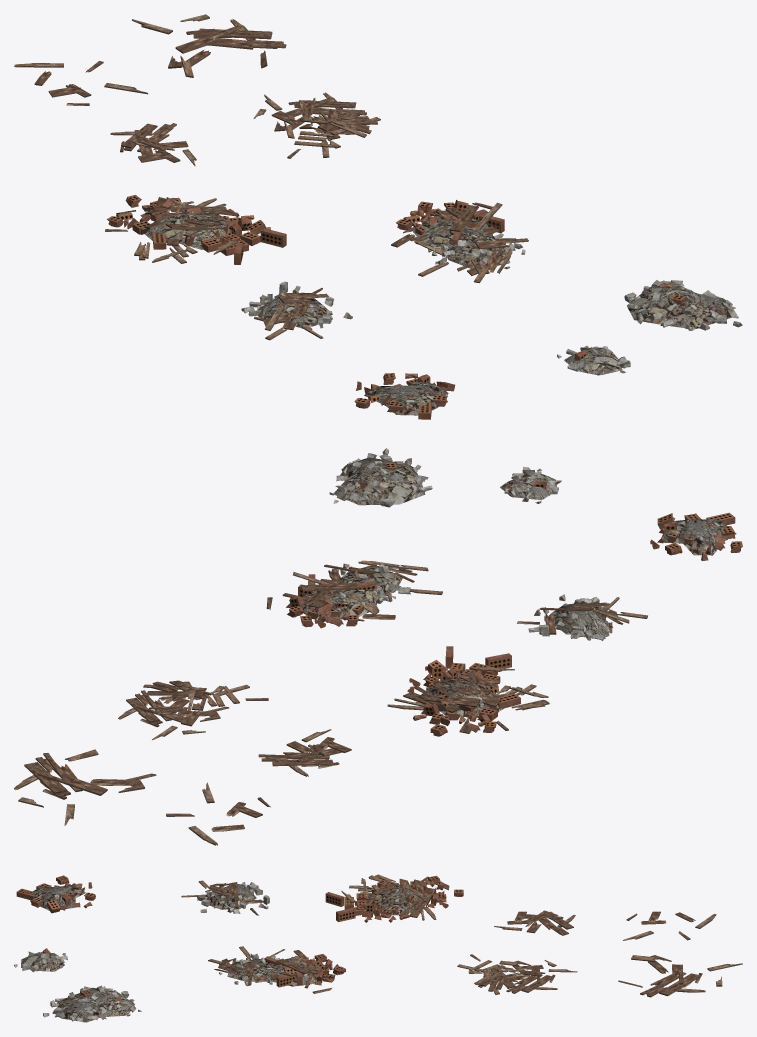
File: Debris_v1.FBX
3 renders of one model, top to bottom at view 1: azimuth 30°, elevation 25°; view 2: azimuth 150°, elevation 25°; view 3: azimuth 270°, elevation 25°, orthographic. The views are drawn at different scales.
Parts seen in each view (by area): view 1: Debris_v1_6, Debris_v1_4, Debris_v1_1, Debris_v1_7, Debris_v1_5, Debris_v1_3, Debris_v1_9, Debris_v1_8, Debris_v1_2, Debris_v1_10; view 2: Debris_v1_6, Debris_v1_4, Debris_v1_1, Debris_v1_7, Debris_v1_5, Debris_v1_3, Debris_v1_9, Debris_v1_8, Debris_v1_2, Debris_v1_10; view 3: Debris_v1_6, Debris_v1_4, Debris_v1_1, Debris_v1_7, Debris_v1_5, Debris_v1_3, Debris_v1_9, Debris_v1_8, Debris_v1_2, Debris_v1_10.
Part boxes in pixels (x1,y1,x2,y2): Debris_v1_6: (105,195,286,264); Debris_v1_4: (391,200,528,282); Debris_v1_1: (624,280,742,330); Debris_v1_7: (253,92,380,158); Debris_v1_5: (241,281,352,340); Debris_v1_3: (354,373,455,419); Debris_v1_9: (132,14,286,77); Debris_v1_8: (110,123,196,166); Debris_v1_2: (557,345,630,375); Debris_v1_10: (14,61,147,105); Debris_v1_6: (387,646,549,736); Debris_v1_4: (266,560,442,628); Debris_v1_1: (329,448,432,507); Debris_v1_7: (118,680,268,740); Debris_v1_5: (517,594,647,640); Debris_v1_3: (650,512,742,560); Debris_v1_9: (14,749,156,825); Debris_v1_8: (258,729,351,776); Debris_v1_2: (500,466,561,503); Debris_v1_10: (166,782,270,845); Debris_v1_6: (325,874,463,922); Debris_v1_4: (208,946,345,993); Debris_v1_1: (43,985,141,1022); Debris_v1_7: (457,954,577,994); Debris_v1_5: (181,880,269,915); Debris_v1_3: (16,875,95,913); Debris_v1_9: (618,955,742,997); Debris_v1_8: (494,910,575,935); Debris_v1_2: (14,948,67,972); Debris_v1_10: (623,911,716,940).
Size of the model in its own units: 9.23 by 0.447 by 19.44.
Materials: 1 (1 with a texture image).
